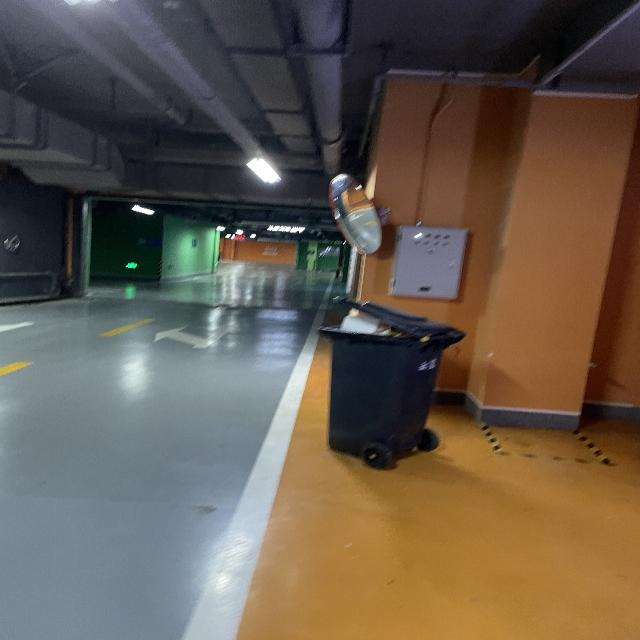overflow: (313, 295, 465, 459)
